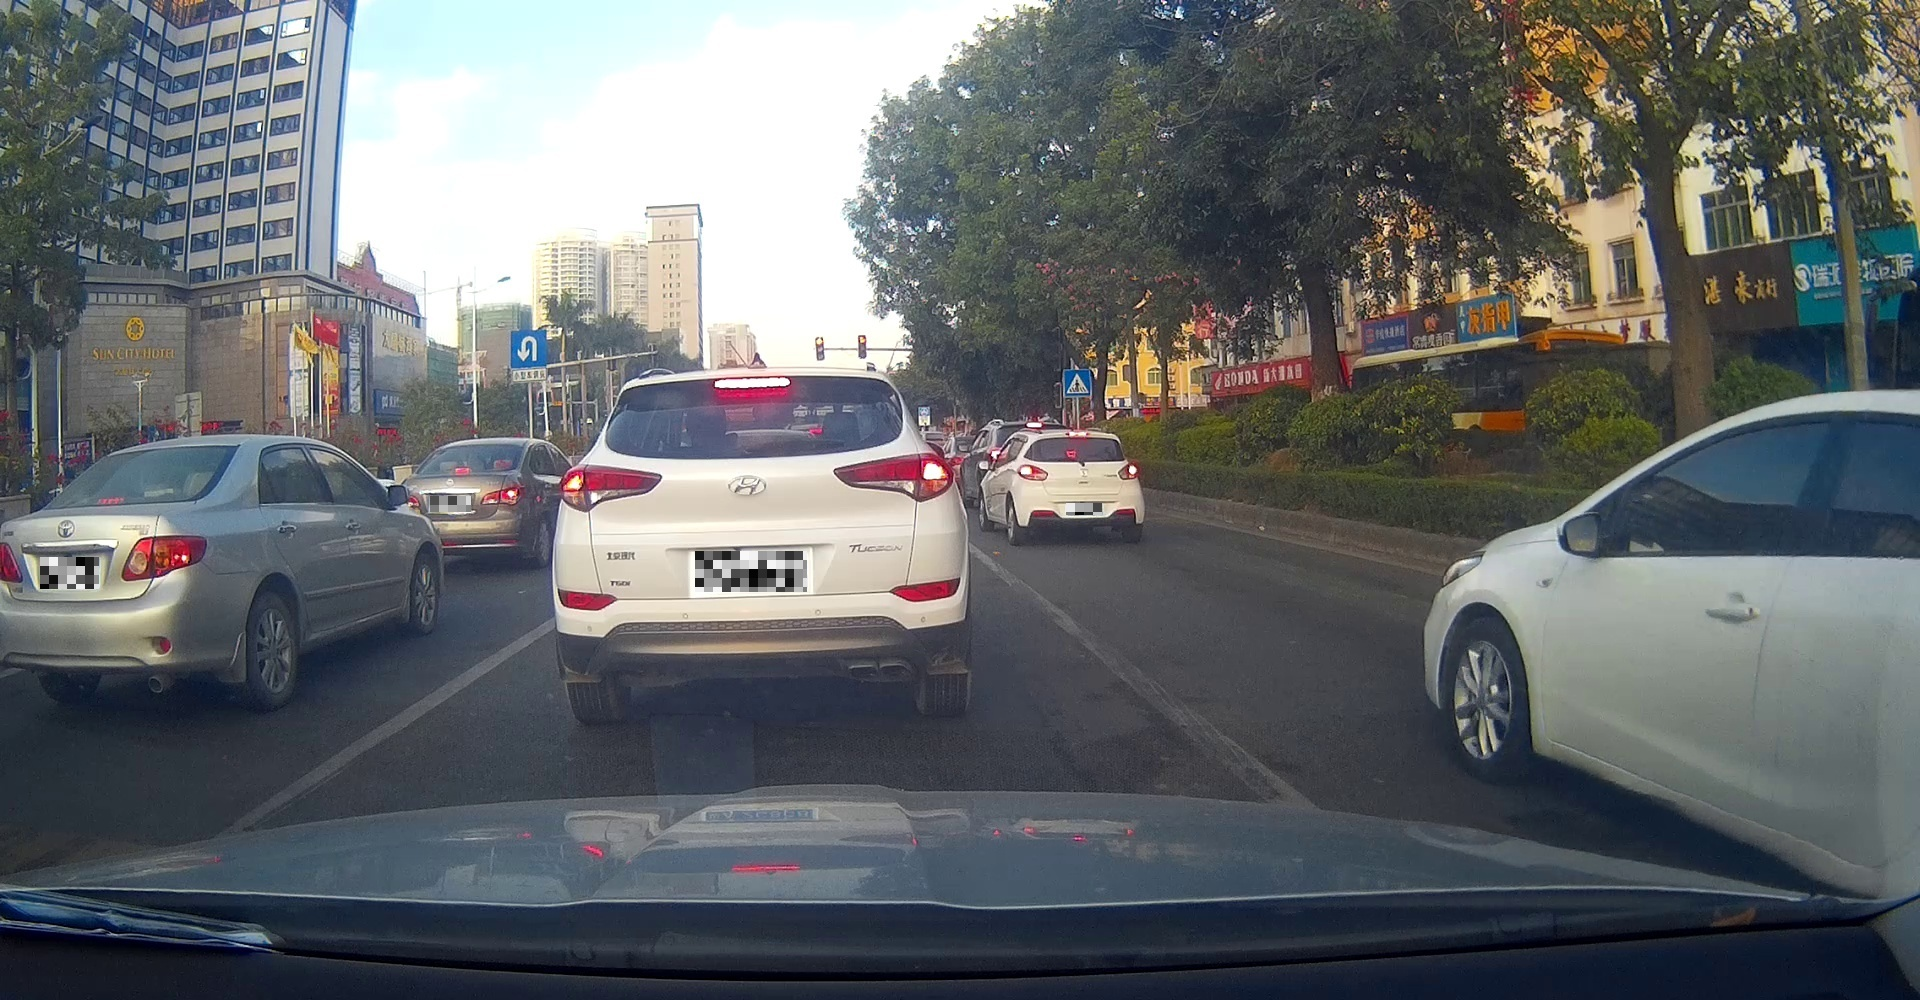L_light: (557, 463, 662, 513), (0, 541, 24, 582), (1016, 464, 1049, 481)
R_light: (832, 452, 954, 503), (121, 534, 207, 582), (1117, 459, 1142, 480)
T_light: (711, 374, 792, 391), (95, 496, 126, 508), (1067, 431, 1088, 439)
day-brake: (554, 364, 966, 721), (0, 433, 248, 712), (1015, 430, 1144, 544)
plate_1: (41, 557, 99, 589)
plate_2: (430, 496, 471, 511)
plate_3: (695, 551, 808, 591)
plate_4: (1065, 503, 1102, 515)
